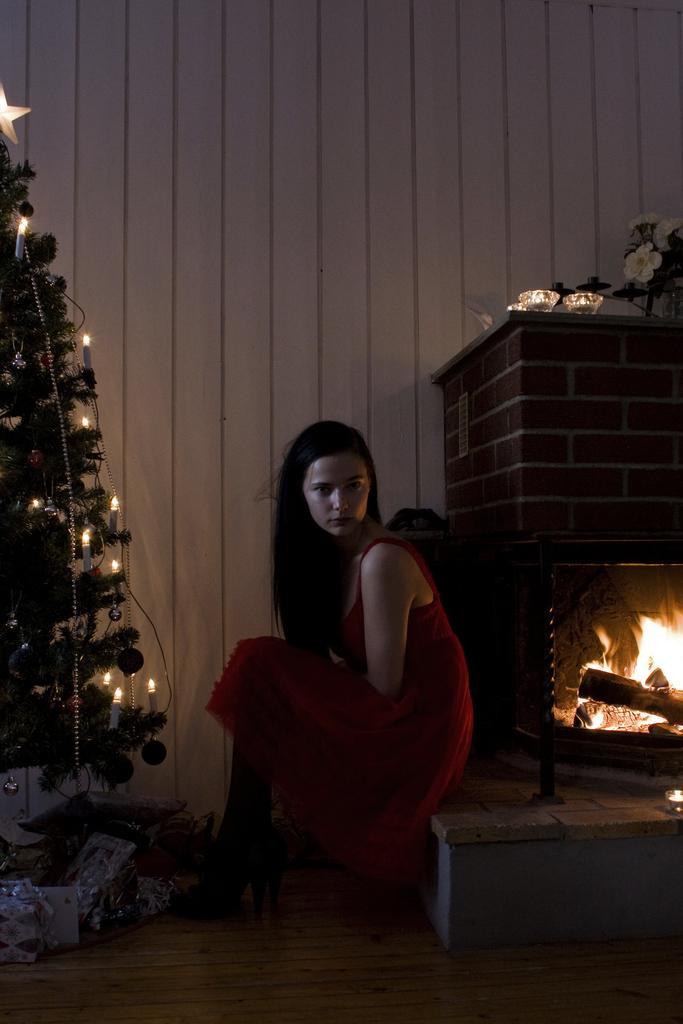fire: (555, 607, 683, 733)
